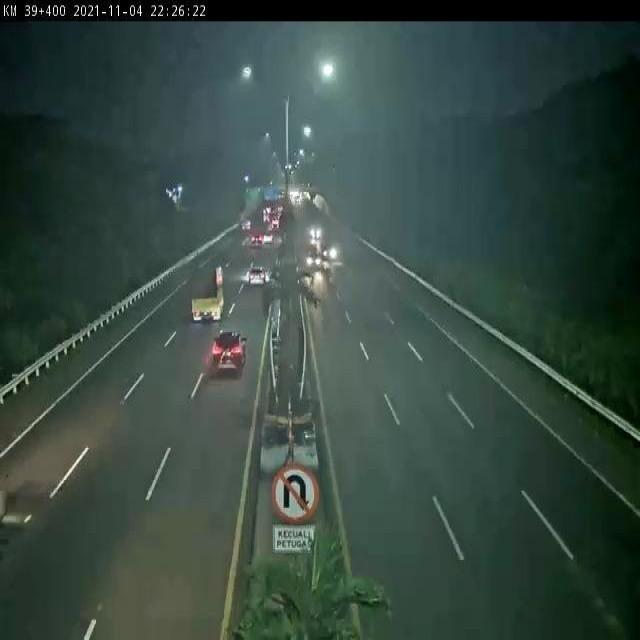car: (212, 329, 248, 376), (249, 264, 267, 284), (321, 244, 337, 260), (306, 251, 321, 268), (309, 224, 322, 239), (261, 231, 273, 244), (251, 233, 263, 246)
truck-m-: (190, 265, 225, 320)
